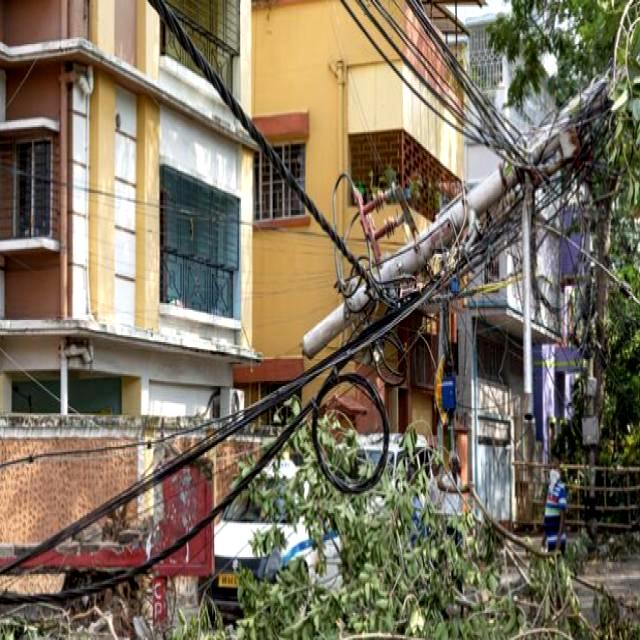Broken Pole: (301, 67, 621, 358)
